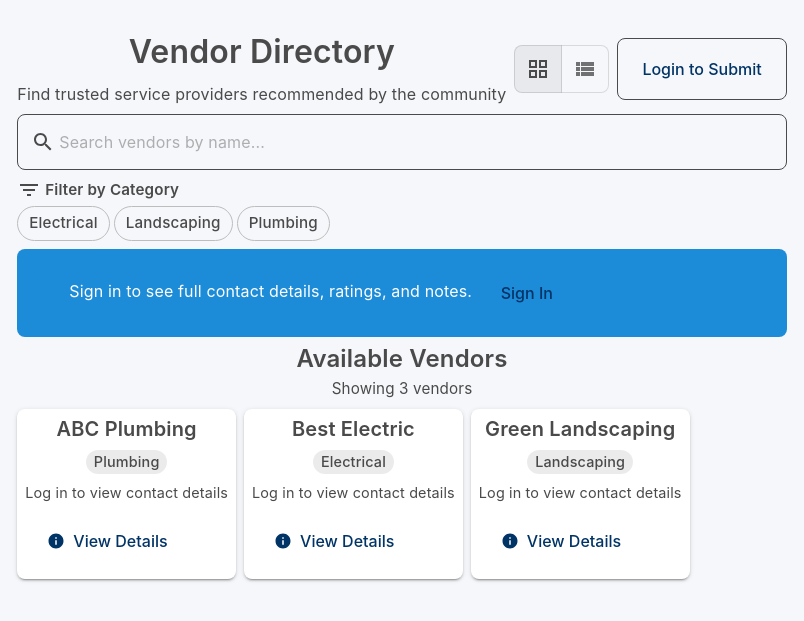
Test: VendorsPage › Filters › clears all filters when clear button clicked
Note: Add a filter first
What coordinates should you click on to do the following:
click the button with aria-label "filter by plumbing"
I would click on:
 (283, 224)
Its box is 237,206 -> 330,242.
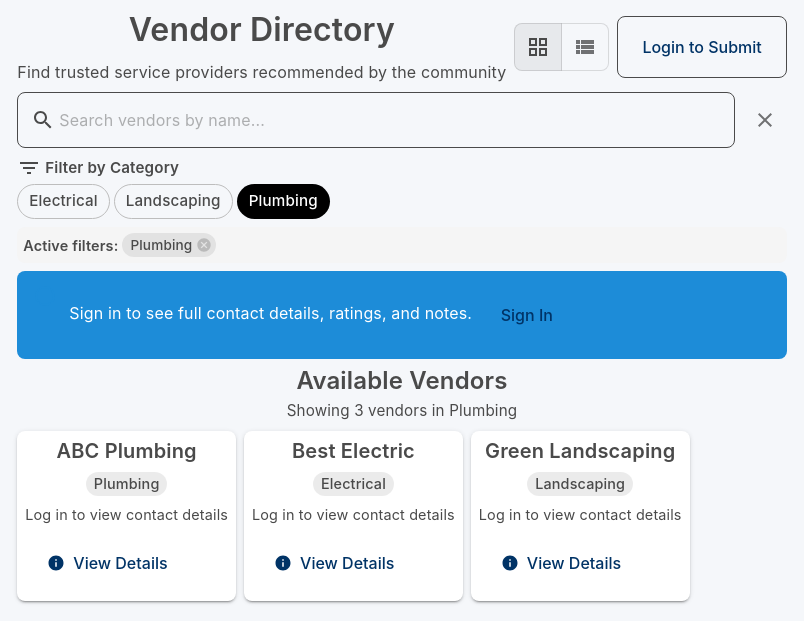
Now the text "Active filters:" is shown, box 23,235 -> 118,256
Note: Clear filters
What coordinates should you click on to do the following:
click the button named "clear all filters"
I would click on:
 (765, 120)
Its box is 743,98 -> 787,142.
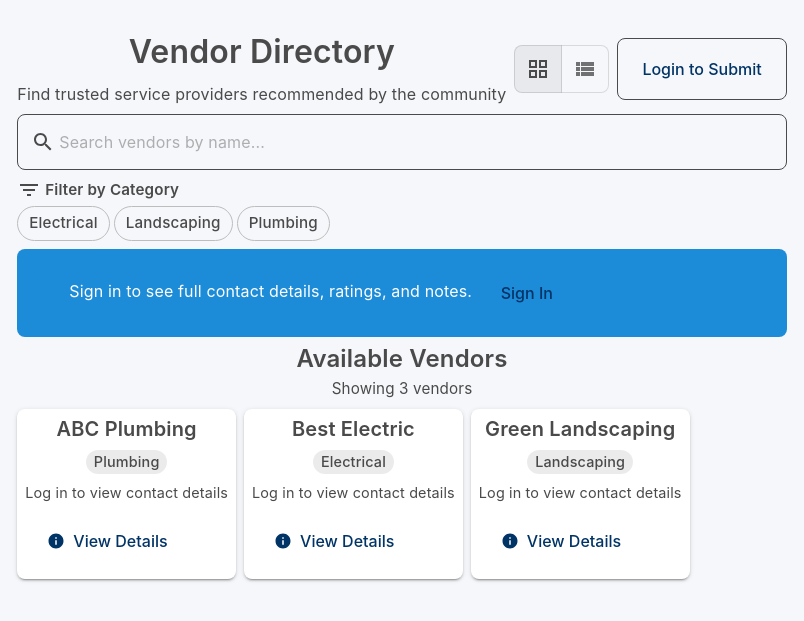
Now the text "Active filters:" is gone
